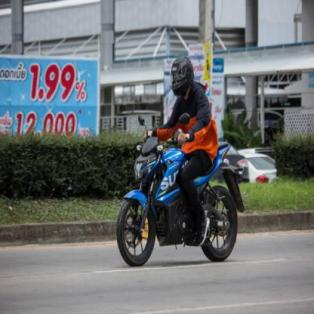Motocicleta: (112, 128, 246, 270)
